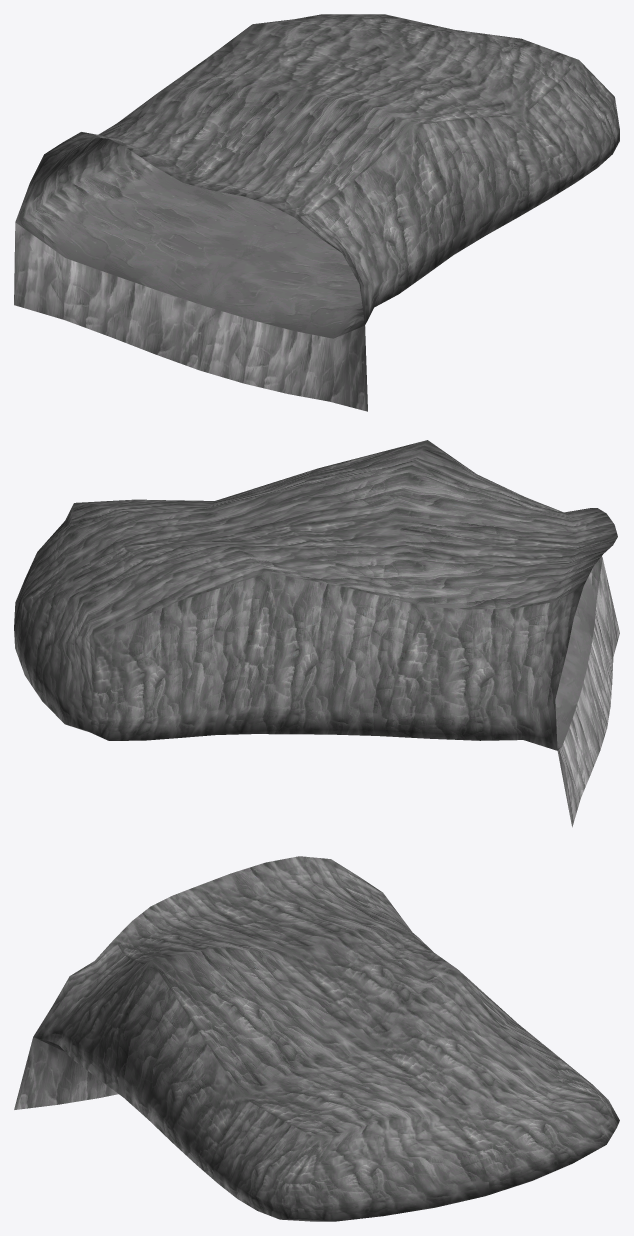
Rendered from SWORDLIGHT20_PS-AREA03_09.fbx.
The picture shows the model from 3 angles, top to bottom: view 1: azimuth 30°, elevation 25°; view 2: azimuth 150°, elevation 25°; view 3: azimuth 270°, elevation 25°; orthographic projection. The views are drawn at different scales.
Parts seen in each view (by area): view 1: SWORDLIGHT20_PS-AREA03_09; view 2: SWORDLIGHT20_PS-AREA03_09; view 3: SWORDLIGHT20_PS-AREA03_09.
Part boxes in pixels (box(x1,y1,x2,y2)): SWORDLIGHT20_PS-AREA03_09: box(14, 14, 619, 411); SWORDLIGHT20_PS-AREA03_09: box(14, 440, 619, 827); SWORDLIGHT20_PS-AREA03_09: box(14, 856, 619, 1221).
Size of the model in its own units: 169510 by 64426 by 164966.
5 materials, 5 textured.
